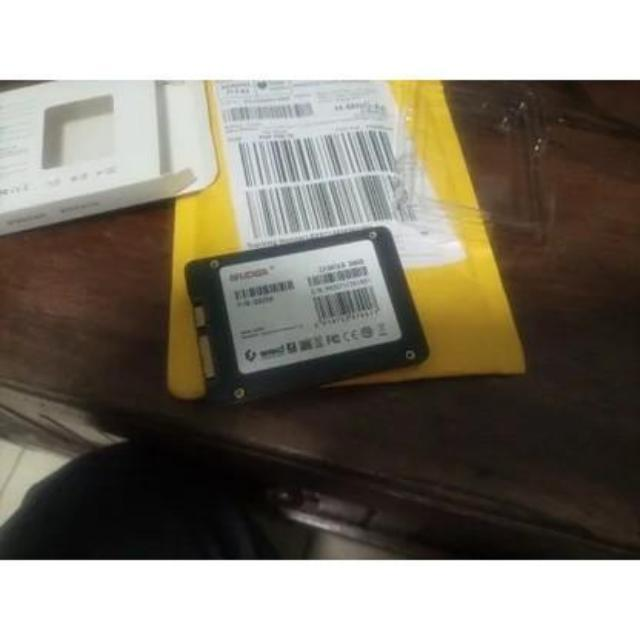DISK: (180, 228, 426, 412)
